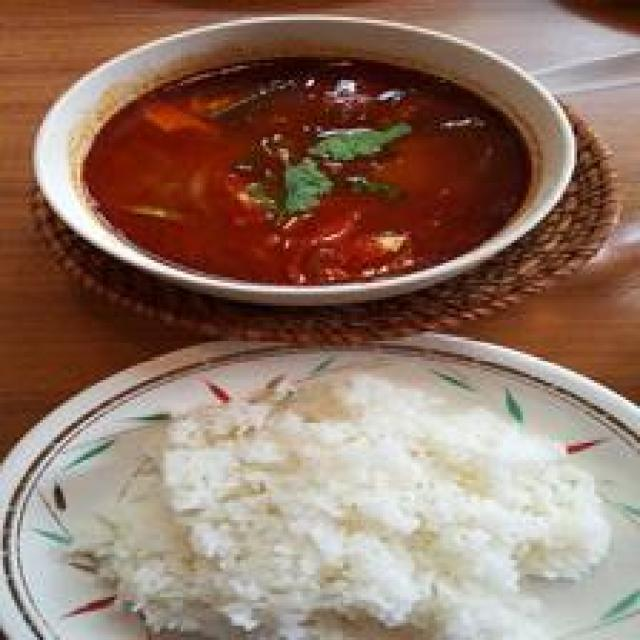Wet Waste: (73, 376, 618, 640)
